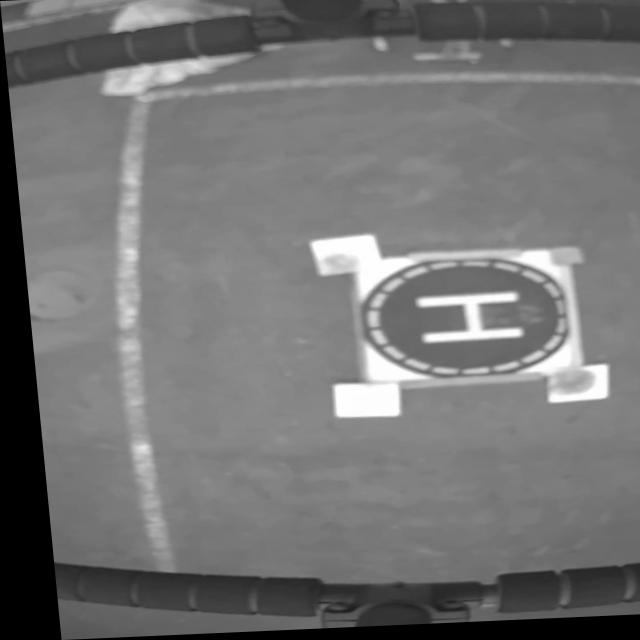Helipad: (407, 294, 517, 346)
